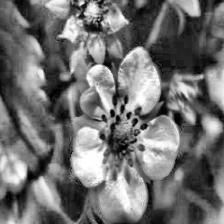Blossom Blight: (96, 92, 152, 171), (65, 0, 117, 47)
